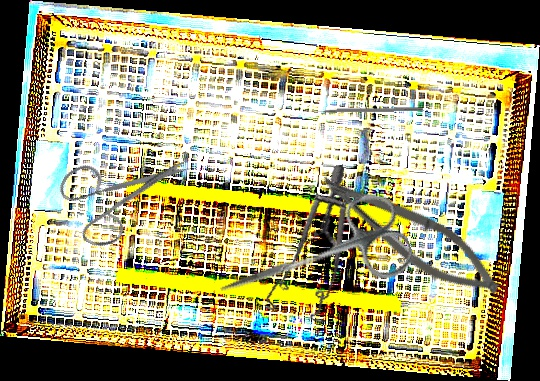Hook Surgical: (307, 105, 424, 114)
Iris Scissors: (206, 184, 419, 335), (42, 112, 194, 269)
Micro Scissor: (307, 162, 513, 309)
Speculum: (242, 164, 370, 332)
